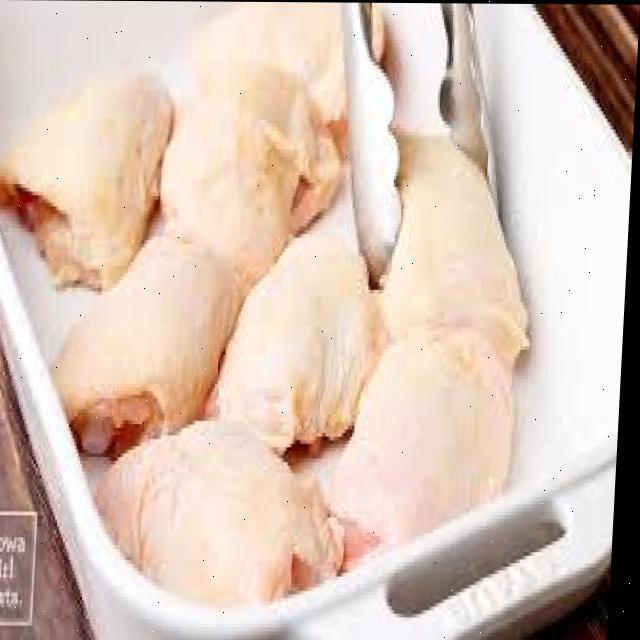thigh: (27, 242, 247, 469), (79, 423, 318, 610), (160, 47, 350, 276), (0, 54, 174, 278), (209, 239, 383, 457)
